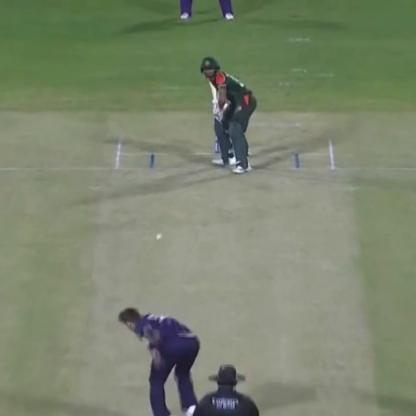ball: (149, 229, 164, 246)
bat: (197, 56, 227, 116)
pitch: (90, 145, 361, 414)
